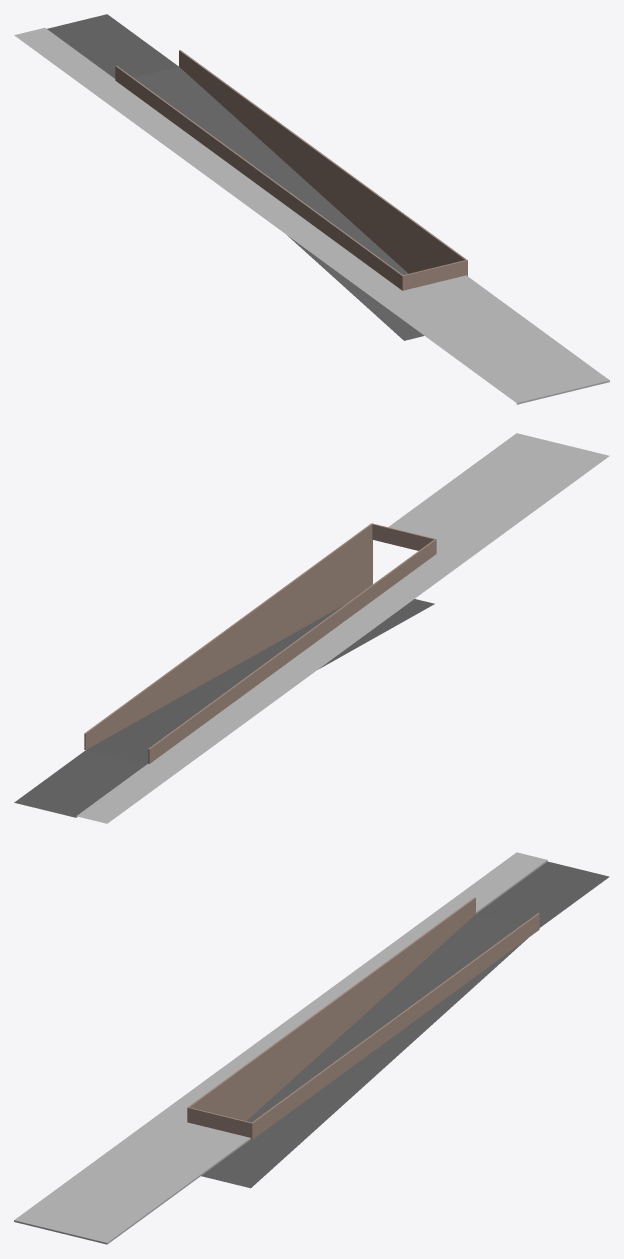
The model's file is urbanisation_garage.glb.
3 renders of one model, top to bottom at view 1: azimuth 30°, elevation 25°; view 2: azimuth 150°, elevation 25°; view 3: azimuth 330°, elevation 25°, orthographic.
Parts seen in each view (by area): view 1: Plane; view 2: Plane; view 3: Plane.
Boxes of the visible parts, x1=… form: Plane: x1=14, y1=14, x2=609, y2=404; Plane: x1=14, y1=433, x2=609, y2=823; Plane: x1=14, y1=852, x2=609, y2=1244.
Size of what is drawn, in the model's own units: 6.1 by 4 by 56.
